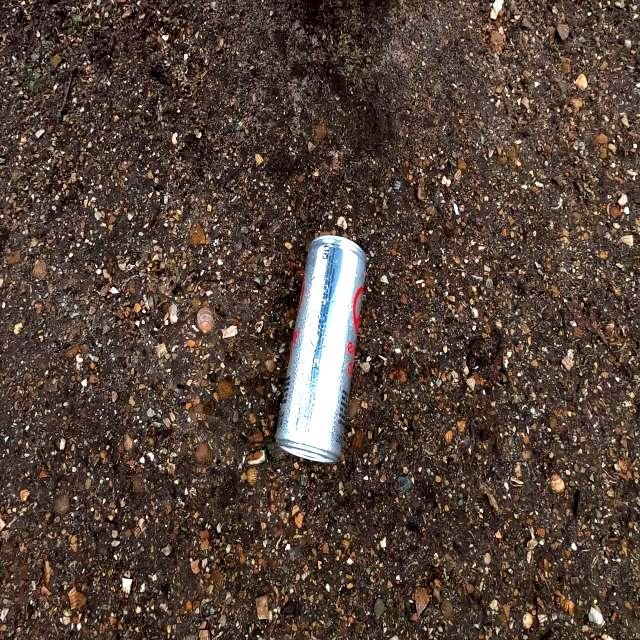Metal: (274, 230, 370, 466)
